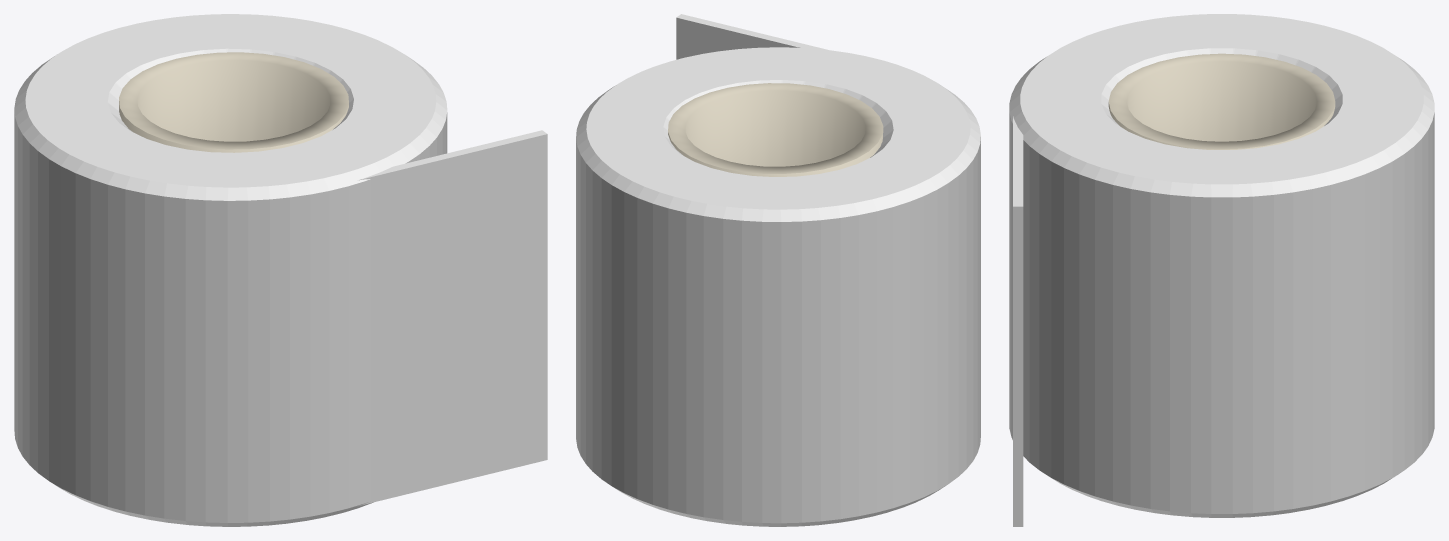
File: ToiletRollV1.fbx
3 views of the same model, side by side, from view 1: azimuth 30°, elevation 25°; view 2: azimuth 150°, elevation 25°; view 3: azimuth 270°, elevation 25° (orthographic). The views are drawn at different scales.
Parts seen in each view (by area): view 1: Cylinder.005; view 2: Cylinder.005; view 3: Cylinder.005.
Boxes of the visible parts, x1,y1,x2,y2 form: Cylinder.005: (14,14,547,526); Cylinder.005: (576,14,980,526); Cylinder.005: (1009,14,1434,526).
Bounding box in the file's own units: 398 × 423 × 345.
